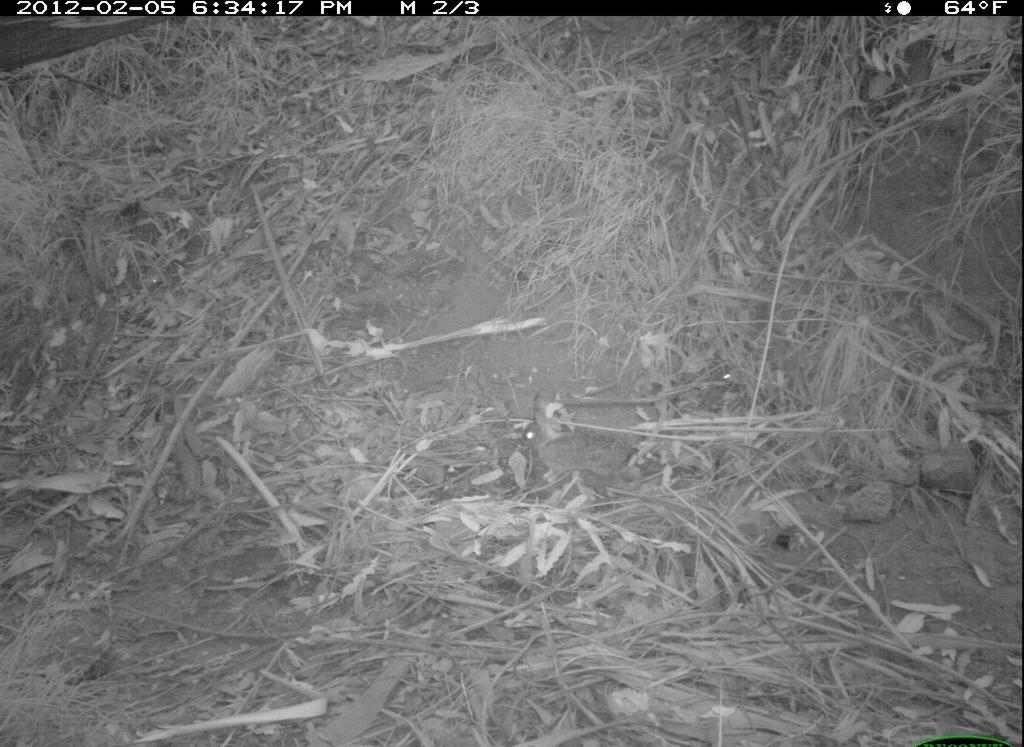rabbit: (511, 387, 633, 515)
